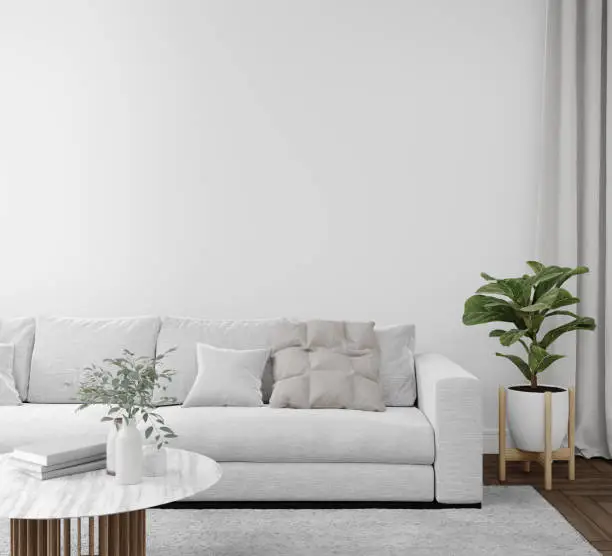flower vase: (76, 347, 173, 480)
large plant: (460, 256, 598, 495)
sofa: (0, 309, 487, 515)
table: (1, 427, 226, 556)
